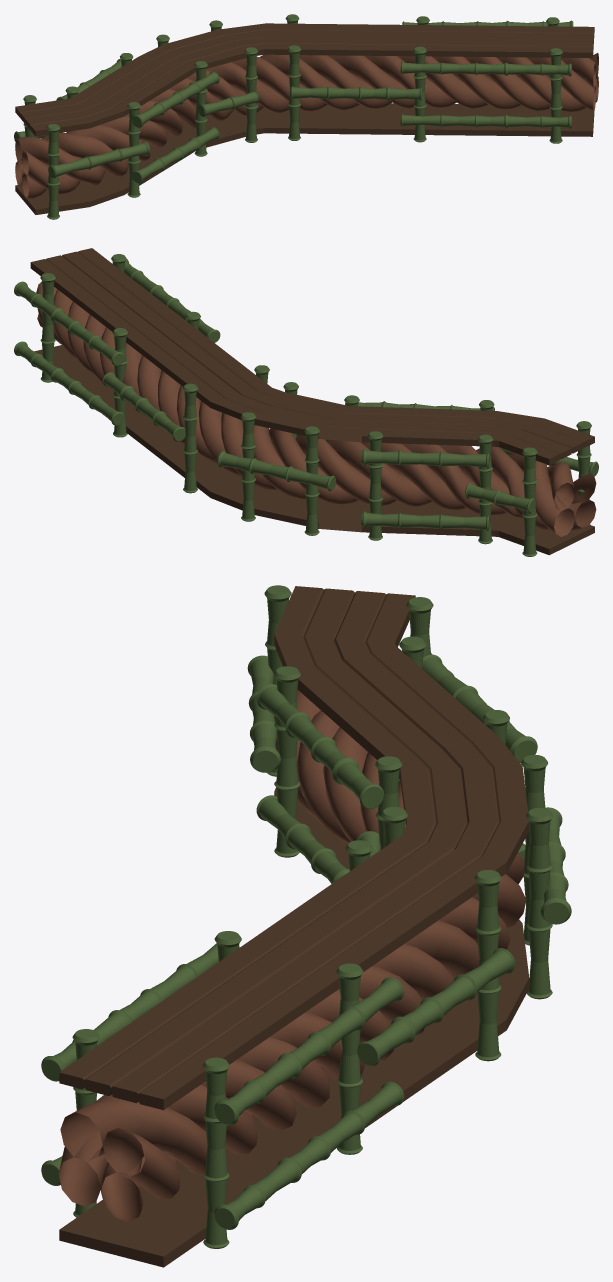
Rendered from echaffaudage qui entoure racine 1.fbx.
3 renders of one model, top to bottom at view 1: azimuth 30°, elevation 25°; view 2: azimuth 150°, elevation 25°; view 3: azimuth 270°, elevation 25°, orthographic. The views are drawn at different scales.
Visible parts, largest first — view 1: Cercle, planche en bois echaffaudage, bambou soutien 2.001, planche en bois echaffaudage.001; view 2: planche en bois echaffaudage, Cercle, bambou soutien 2.001, planche en bois echaffaudage.001; view 3: planche en bois echaffaudage, bambou soutien 2.001, Cercle, planche en bois echaffaudage.001.
Part boxes in pixels (left/top/right/bottom): Cercle: left=15, top=53, right=598, bottom=198; planche en bois echaffaudage: left=15, top=23, right=594, bottom=136; bambou soutien 2.001: left=14, top=14, right=573, bottom=219; planche en bois echaffaudage.001: left=15, top=103, right=594, bottom=214; planche en bois echaffaudage: left=30, top=248, right=594, bottom=465; Cercle: left=36, top=281, right=596, bottom=536; bambou soutien 2.001: left=14, top=254, right=598, bottom=556; planche en bois echaffaudage.001: left=34, top=345, right=594, bottom=555; planche en bois echaffaudage: left=59, top=586, right=529, bottom=1110; bambou soutien 2.001: left=41, top=585, right=571, bottom=1248; Cercle: left=58, top=690, right=526, bottom=1221; planche en bois echaffaudage.001: left=59, top=787, right=529, bottom=1267.
Bounding box in the file's own units: 4656 × 764 × 2018.
